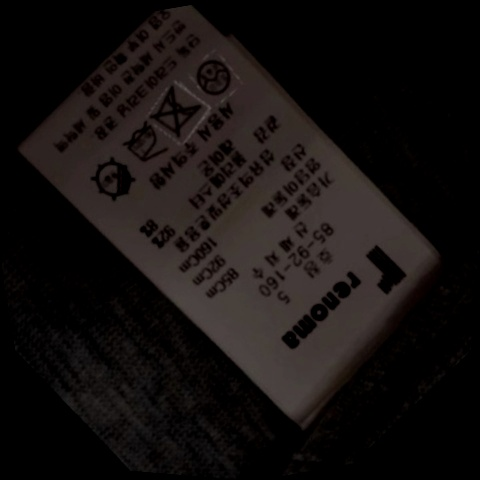DN_wash: (143, 79, 214, 145)
dry_clean_petrol_only: (187, 47, 244, 104)
iron_low: (113, 115, 176, 174)
line_dry_in_shade: (83, 149, 151, 211)
